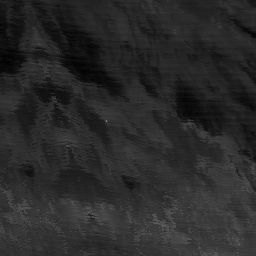Target: (103, 117, 108, 122)
